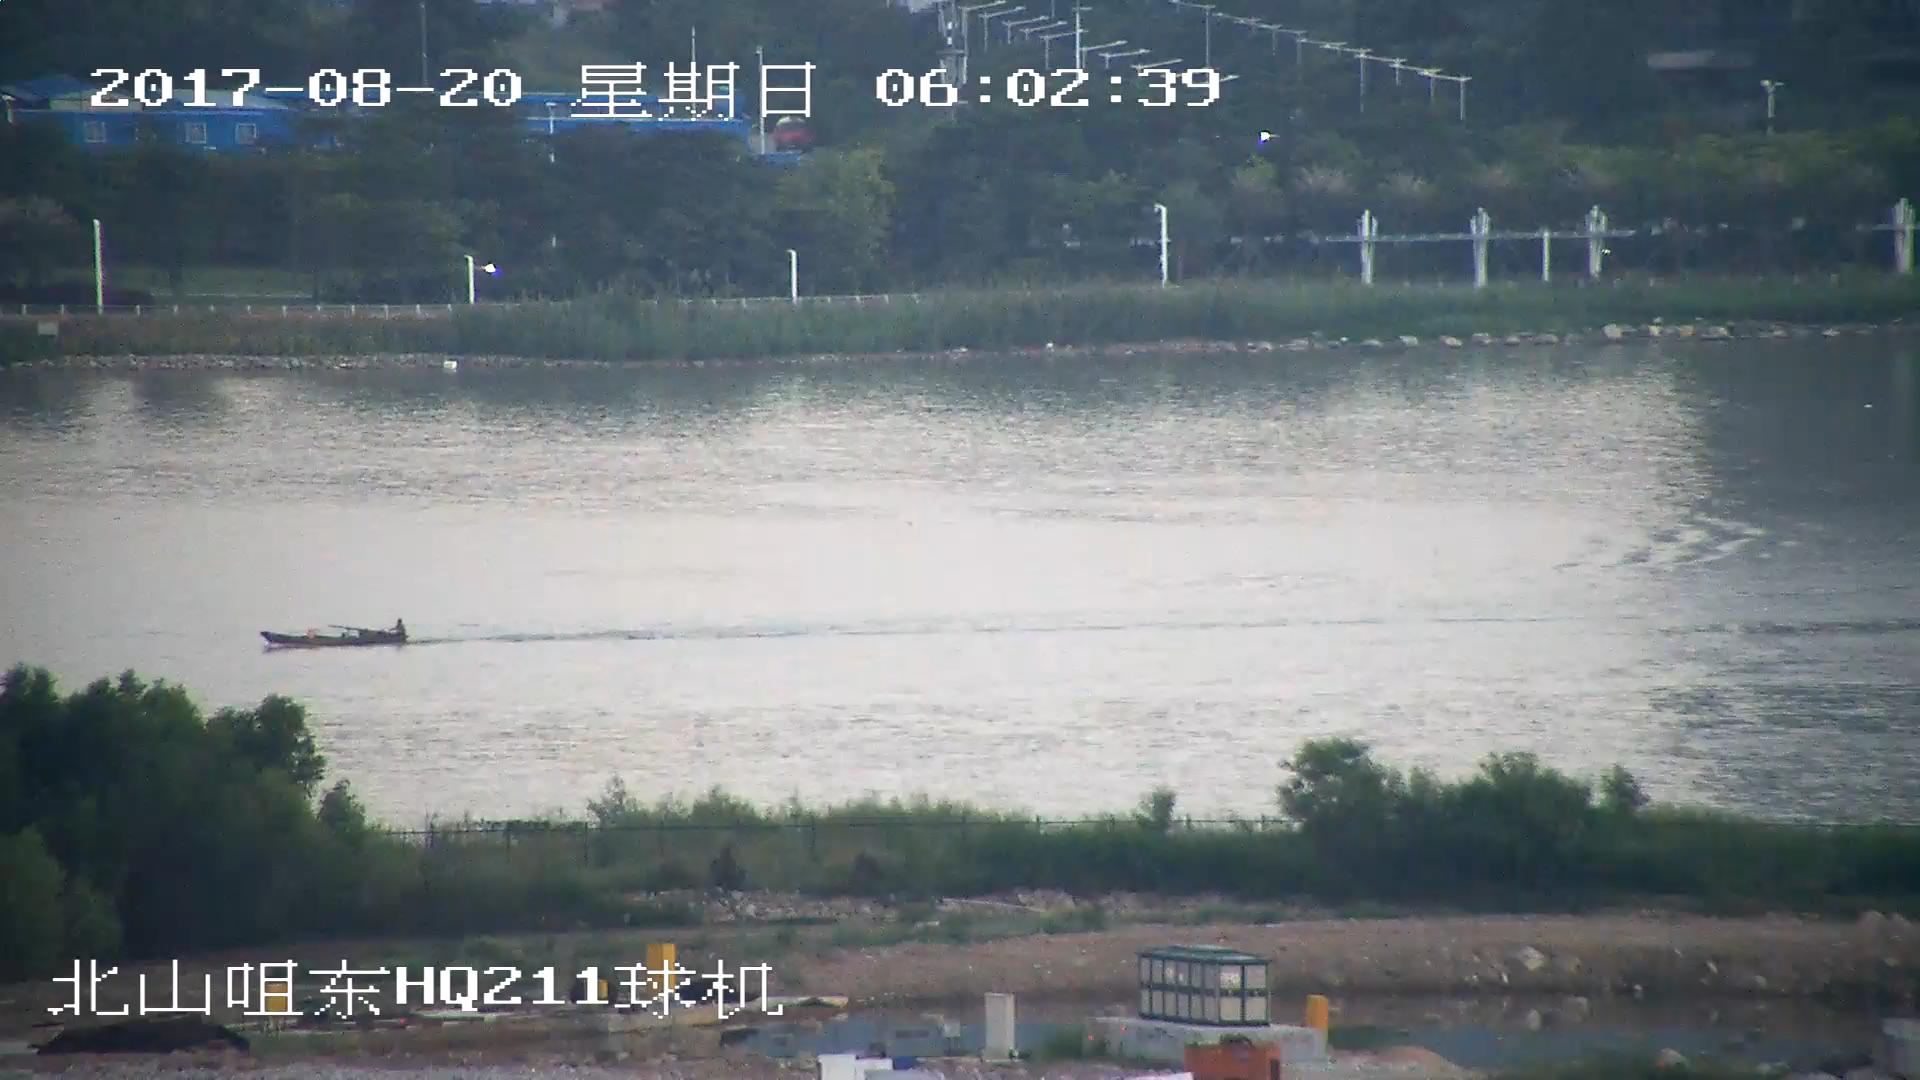fishing boat: (263, 617, 410, 647)
